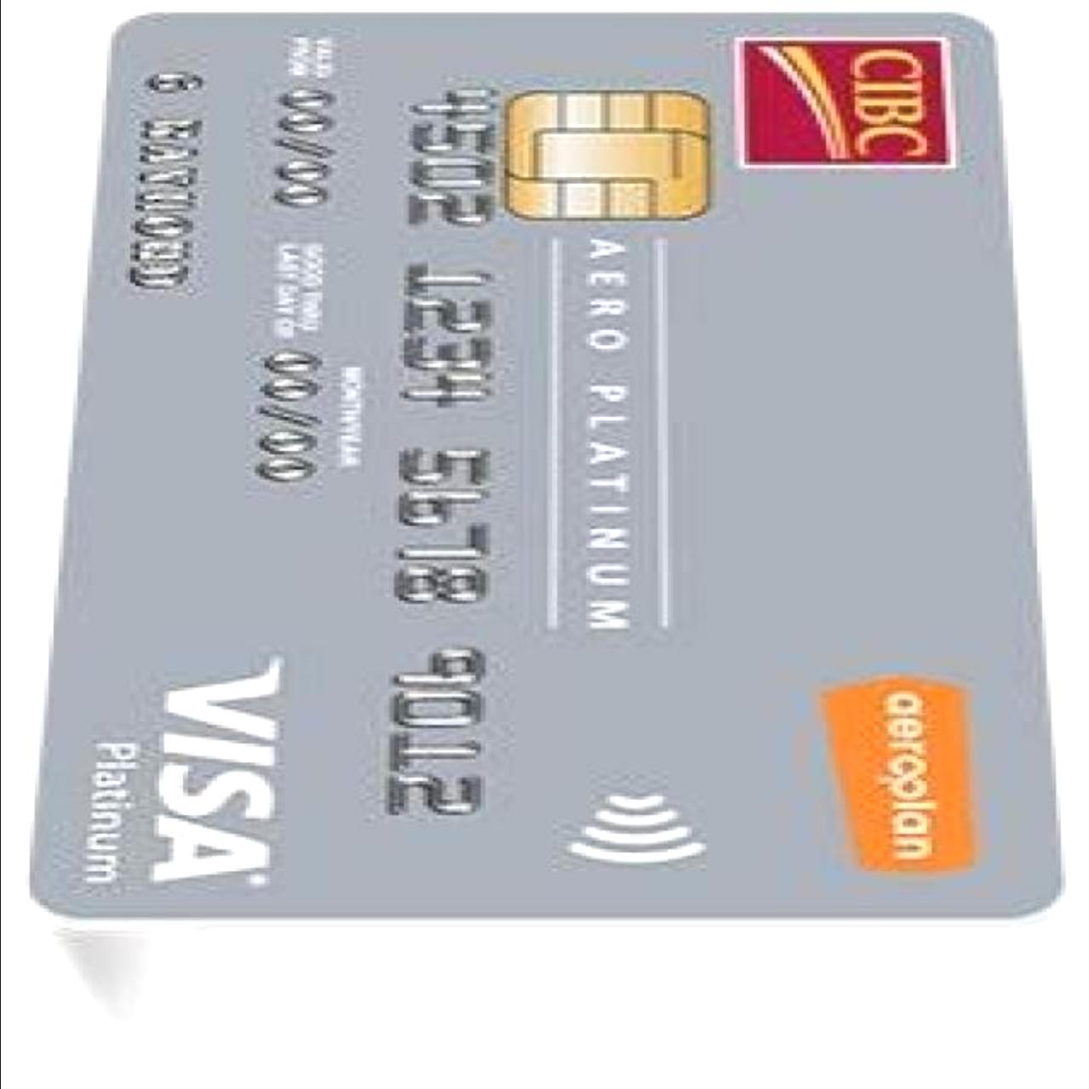credit_card: (7, 0, 1069, 922)
